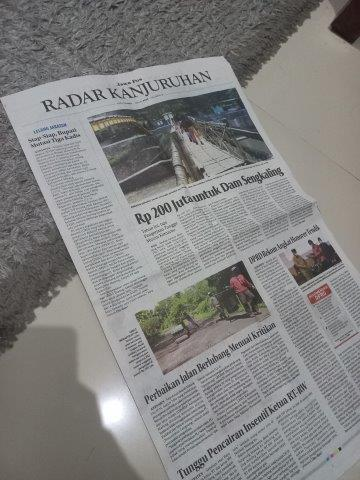kertas: (2, 54, 360, 480)
